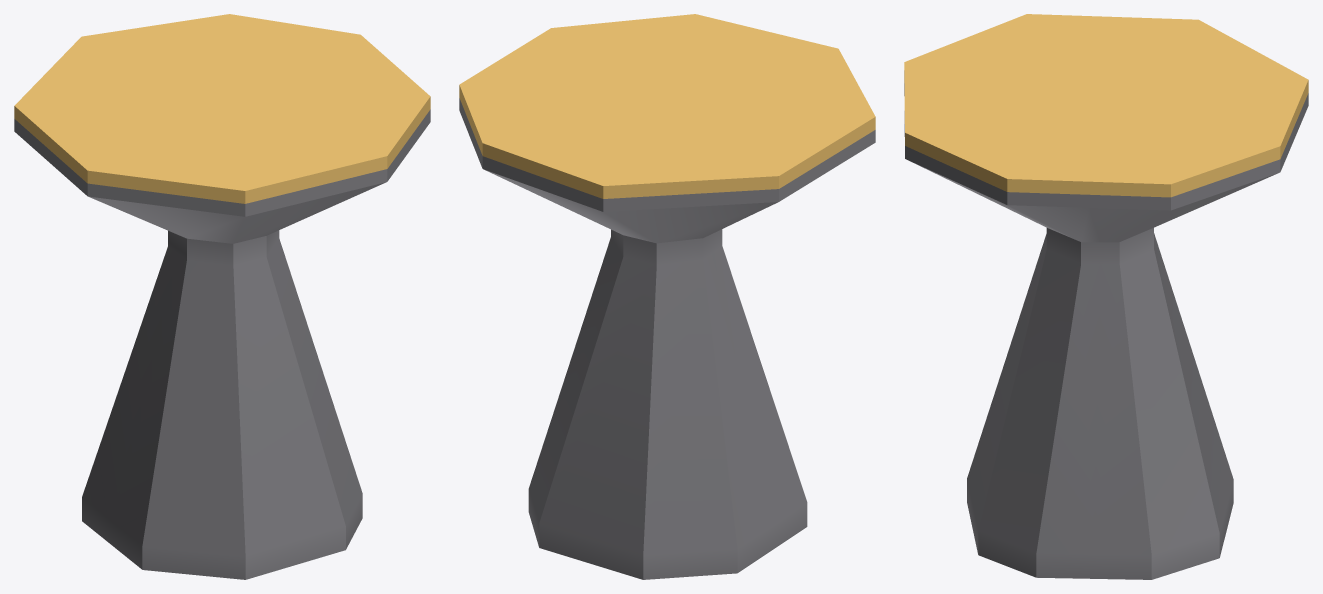
File: CEO_Table2.fbx
3 renders of one model, left to right at view 1: azimuth 30°, elevation 25°; view 2: azimuth 150°, elevation 25°; view 3: azimuth 270°, elevation 25°, orthographic.
Visible parts, largest first — view 1: CEO_Table2__2; view 2: CEO_Table2__2; view 3: CEO_Table2__2.
Part boxes in pixels (left/top/right/bottom): CEO_Table2__2: left=14, top=14, right=430, bottom=579; CEO_Table2__2: left=459, top=14, right=875, bottom=579; CEO_Table2__2: left=904, top=14, right=1308, bottom=579.
Size of the model in its own units: 78.04 by 90.82 by 78.23.
